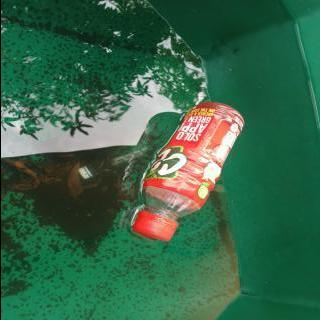bottle: (127, 101, 246, 242)
